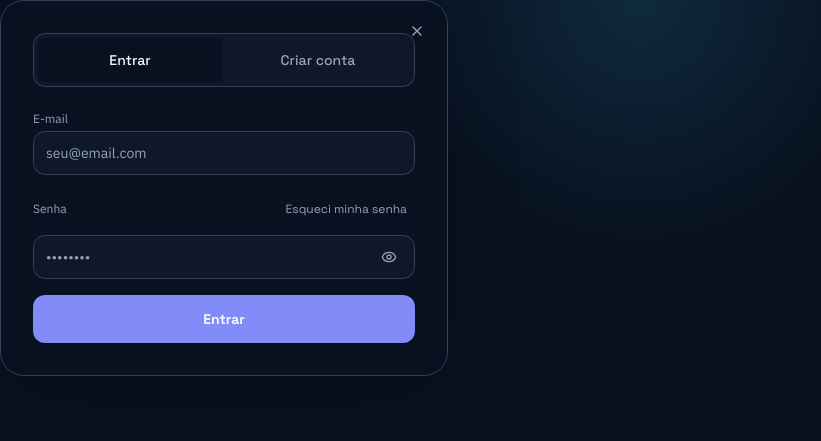
Test: AuthPanel — estado pós-cadastro (confirmação pendente) › mostra mensagem com o email após signup bem-sucedido
The width and height of the screenshot is (821, 441).
Click the button "Criar conta" at (318, 60), box [226,38,410,82]
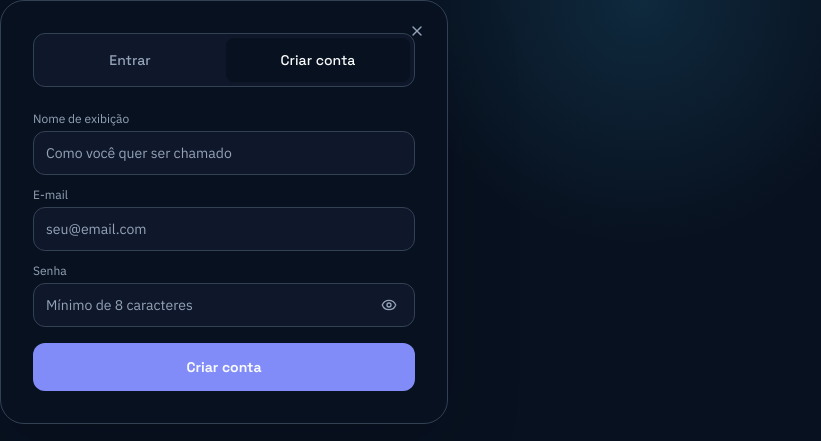
Type "Teste" into the field with placeholder "Como você quer ser chamado" at (224, 153), box [33,131,415,175]
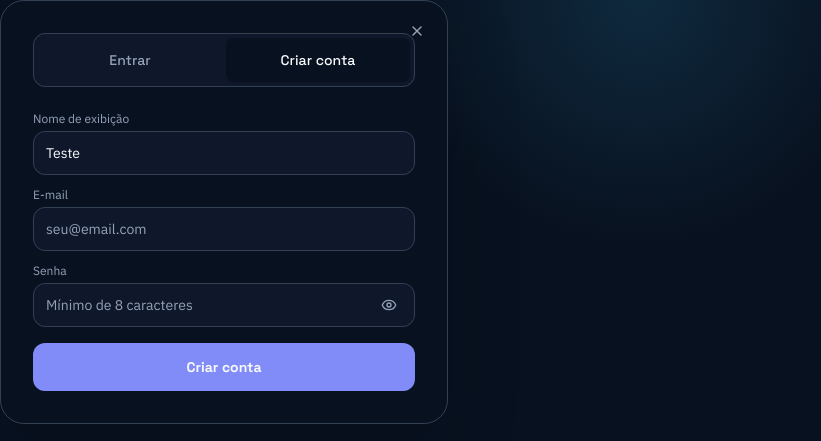
Type "teste@exemplo.com" into the field with placeholder "seu@email.com" at (224, 229), box [33,207,415,251]
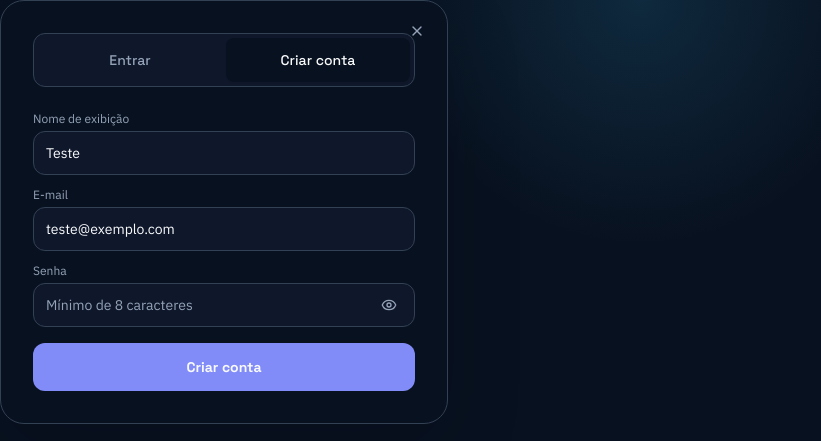
Type "senha12345" into the password field with placeholder "Mínimo de 8 caracteres" at (224, 305), box [33,283,415,327]
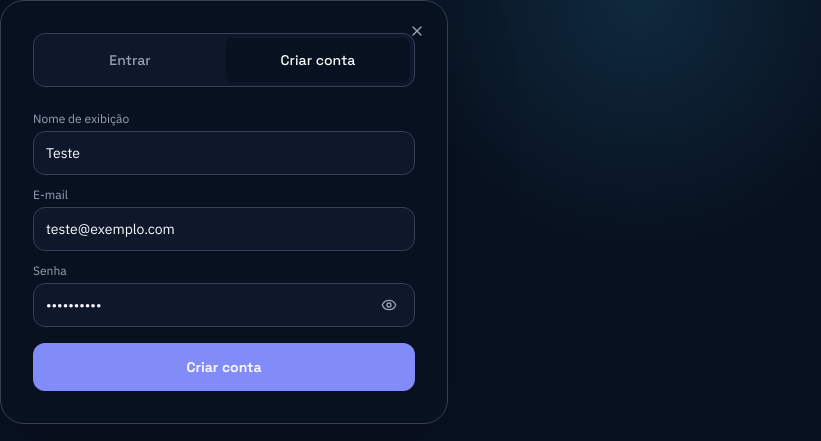
Submit the form, box [33,111,415,391]
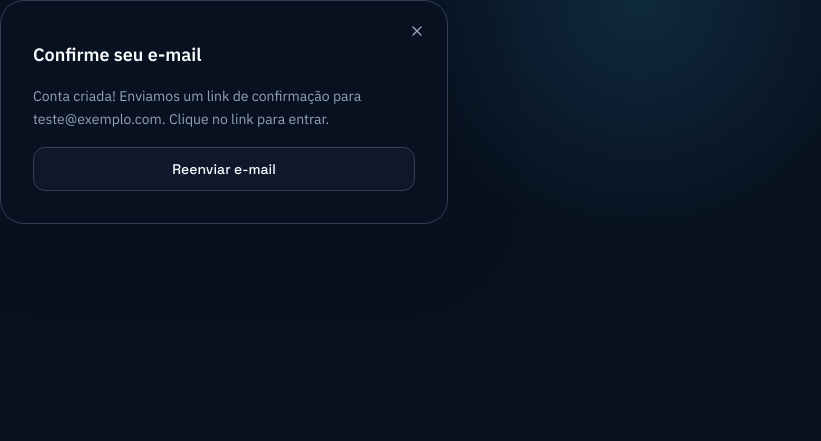
Expected: the text "clique no link para entrar" is shown, [33,87,361,128]
